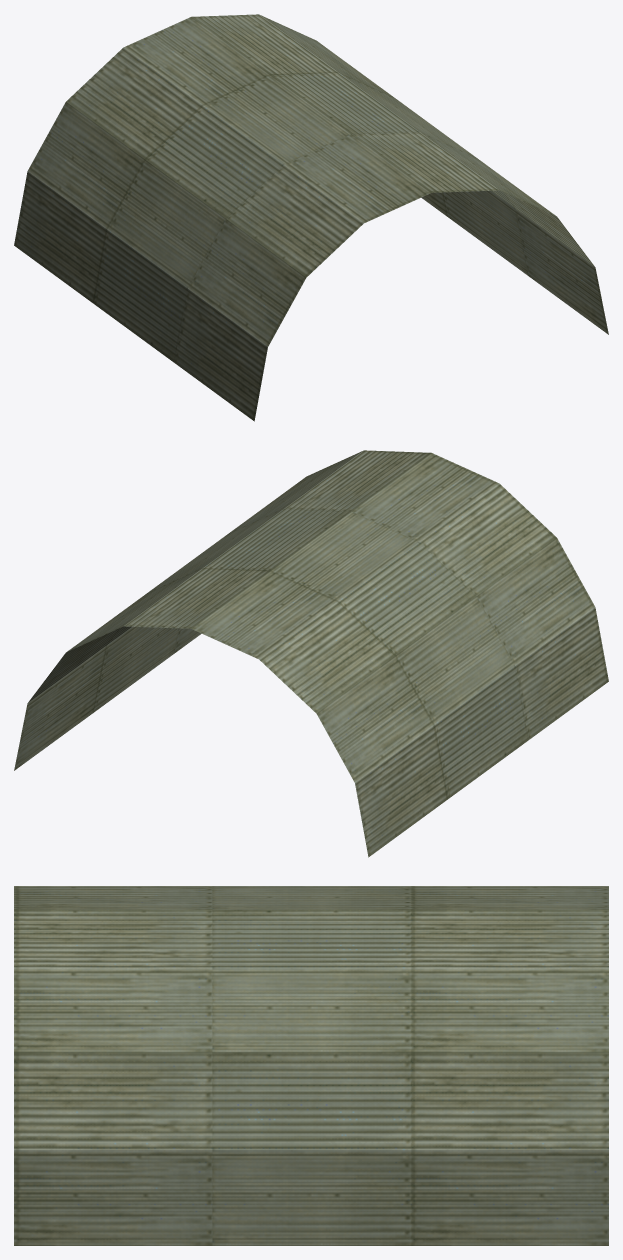
Rendered from hangar.glb.
3 views of the same model, one above another, from view 1: azimuth 30°, elevation 25°; view 2: azimuth 150°, elevation 25°; view 3: azimuth 270°, elevation 25° (orthographic). The views are drawn at different scales.
Parts seen in each view (by area): view 1: Hangar; view 2: Hangar; view 3: Hangar.
Boxes of the visible parts, x1=… form: Hangar: x1=14, y1=14, x2=608, y2=421; Hangar: x1=14, y1=450, x2=608, y2=857; Hangar: x1=14, y1=886, x2=608, y2=1245.
Bounding box in the file's own units: 10.22 × 5.11 × 12.01.
Materials: 1 (1 with a texture image).
